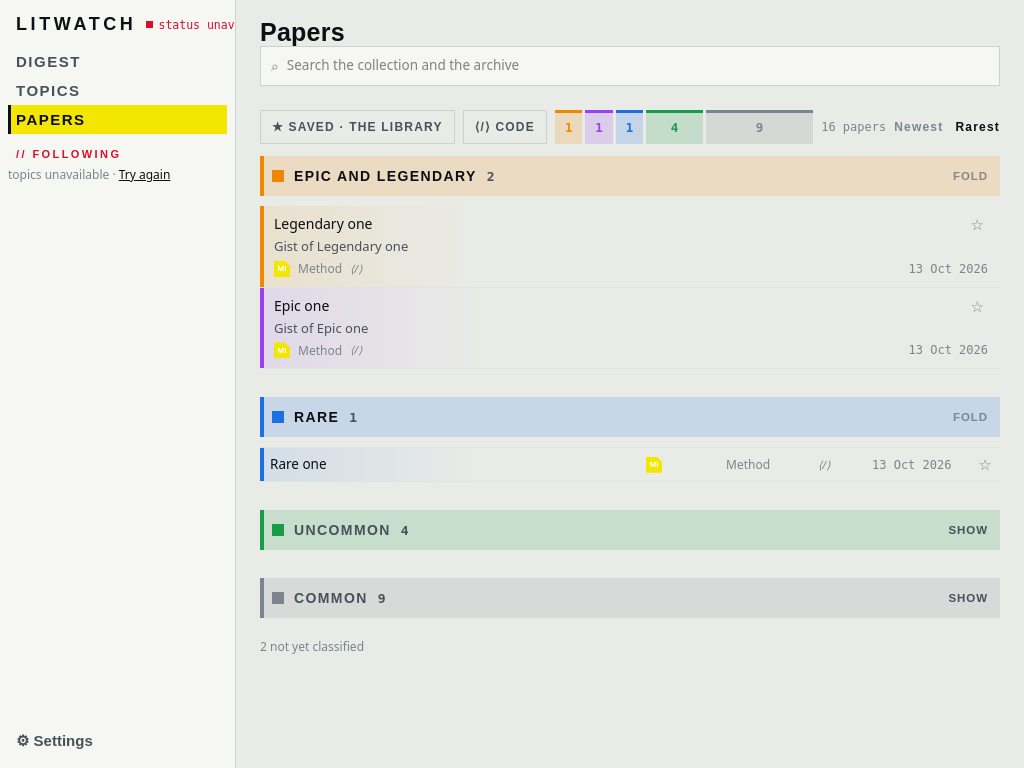
Papers › shows each rarity shelf from its own page, folded shelves as counts, and saves in place
Expected: the text "Epic one" is shown, x1=274 y1=296 x2=329 y2=315
Expected: the text "13 Oct 2026" is shown 2 times, x1=908 y1=262 x2=988 y2=276; x1=908 y1=344 x2=988 y2=358
Click the button named "Save": (977, 306) x1=966 y1=297 x2=988 y2=316
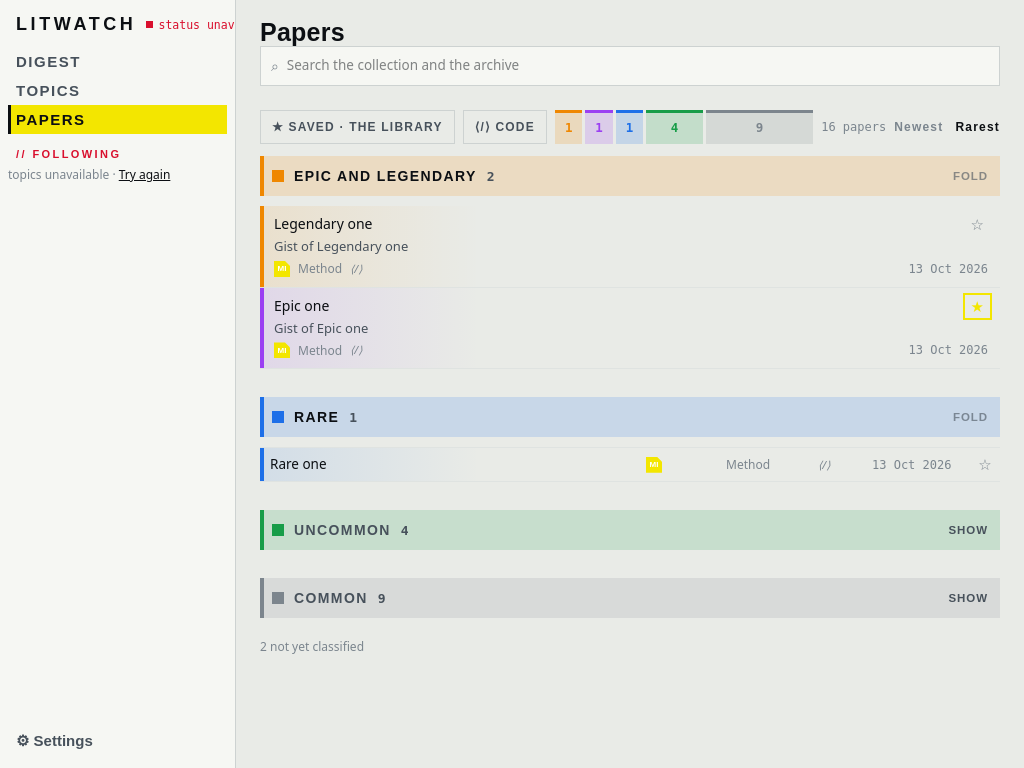
Now the button named "Unsave" is shown, box x1=966 y1=297 x2=988 y2=316
